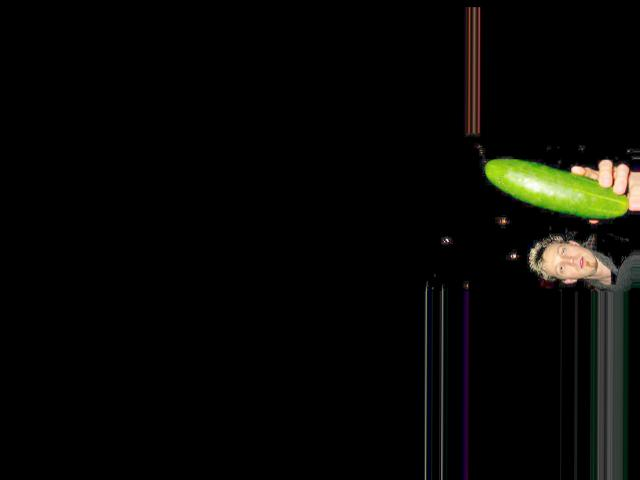cucumber: (485, 157, 627, 217)
